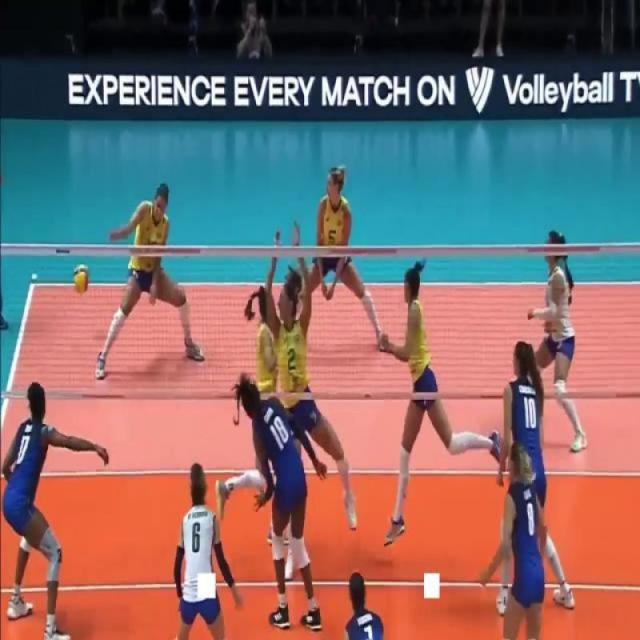volleyball: (73, 262, 89, 294)
